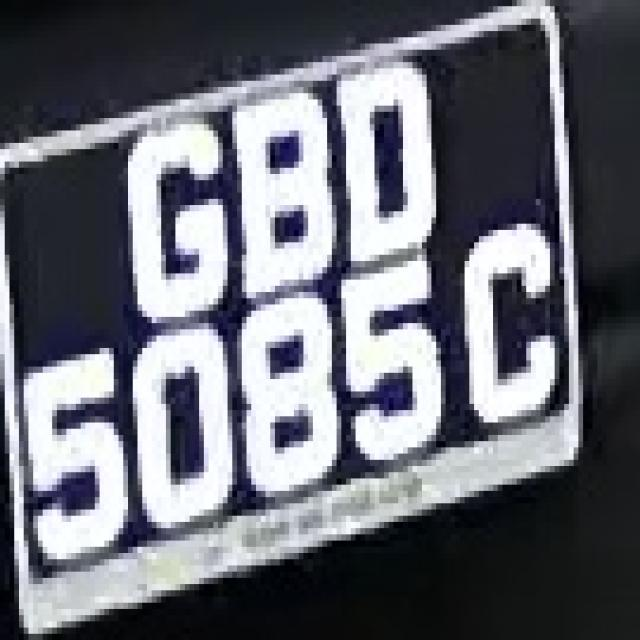0: (133, 317, 242, 547)
5: (332, 242, 455, 491), (14, 336, 138, 572)
8: (232, 298, 337, 510)
B: (222, 68, 336, 311)
C: (455, 211, 564, 435)
D: (332, 50, 450, 267)
G: (109, 80, 237, 336)
